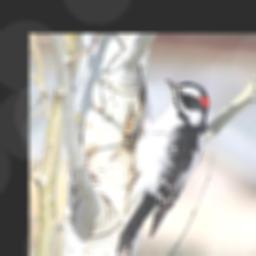Woodpecker: (114, 77, 208, 256)
